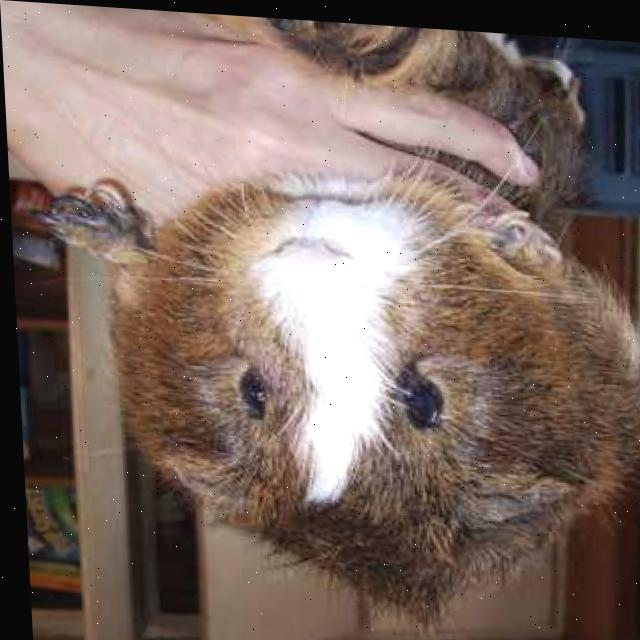guinea pig: (58, 178, 640, 626)
